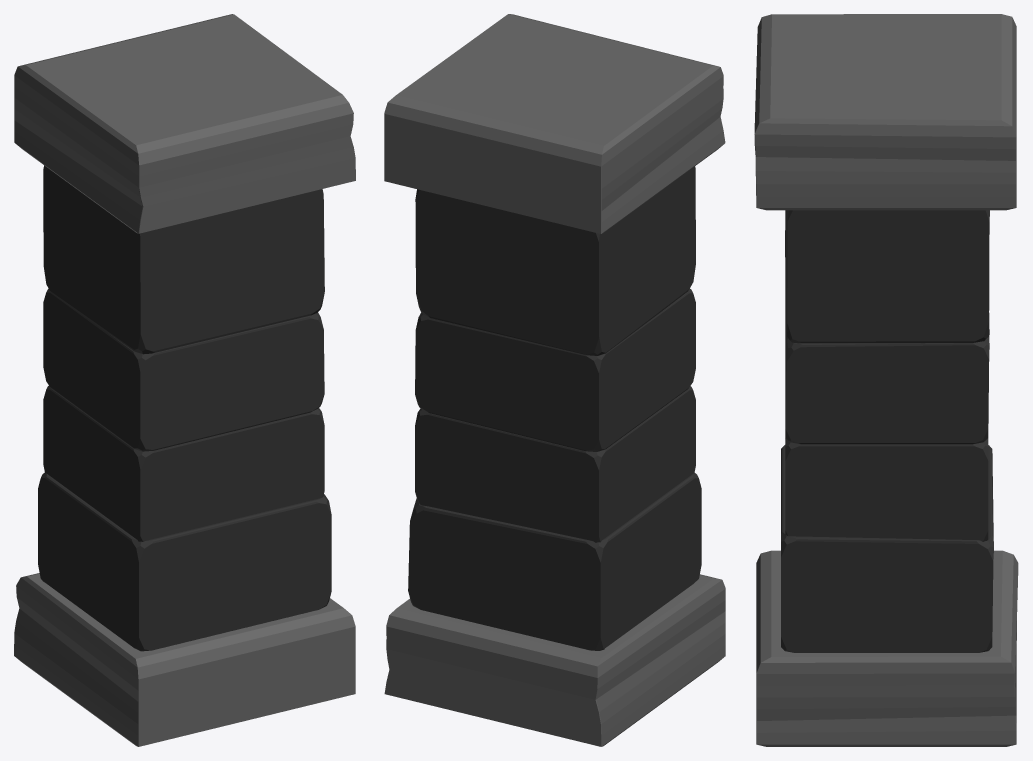
The model's file is Wall_01_OnlyPillar.fbx.
The picture shows the model from 3 angles, left to right: view 1: azimuth 30°, elevation 25°; view 2: azimuth 150°, elevation 25°; view 3: azimuth 270°, elevation 25°; orthographic projection. The views are drawn at different scales.
Visible parts, largest first — view 1: Wall_01_OnlyPillar; view 2: Wall_01_OnlyPillar; view 3: Wall_01_OnlyPillar.
Part boxes in pixels (x1,y1,x2,y2): Wall_01_OnlyPillar: (14,14,355,746); Wall_01_OnlyPillar: (384,14,725,746); Wall_01_OnlyPillar: (754,14,1018,746).
Size of the model in its own units: 156 by 410 by 156.
